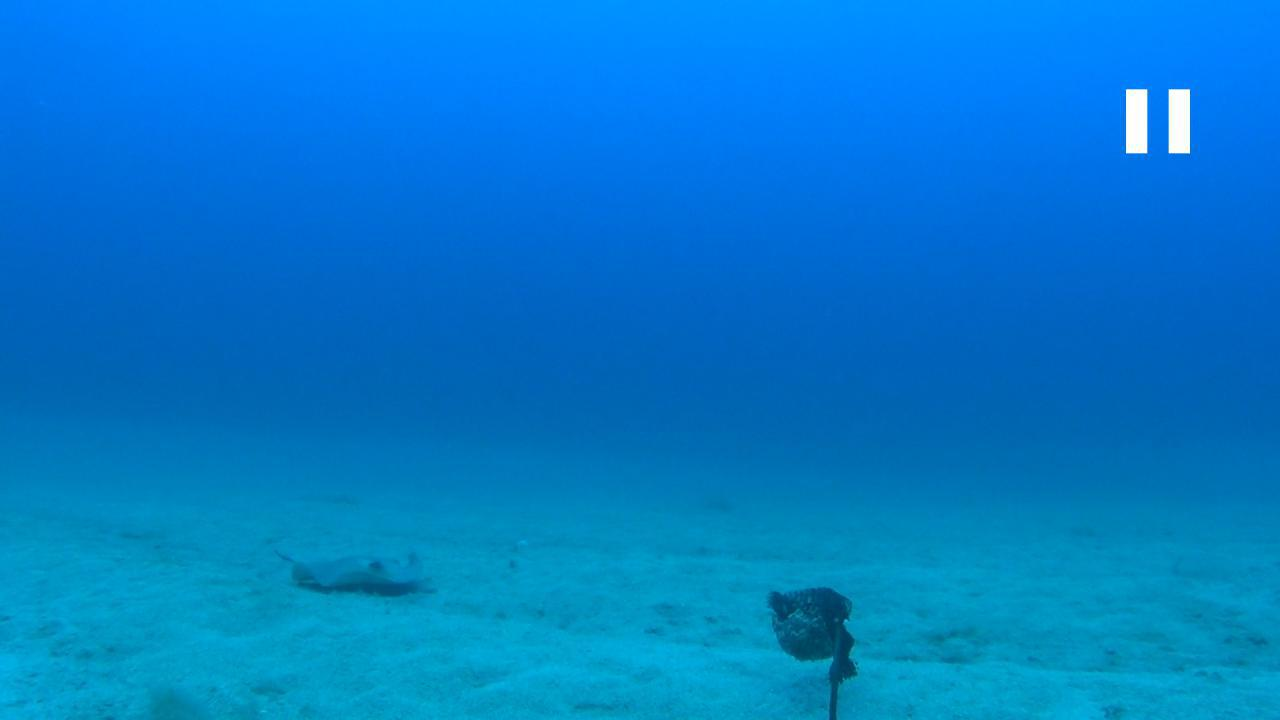dasyatis: (271, 546, 428, 590)
